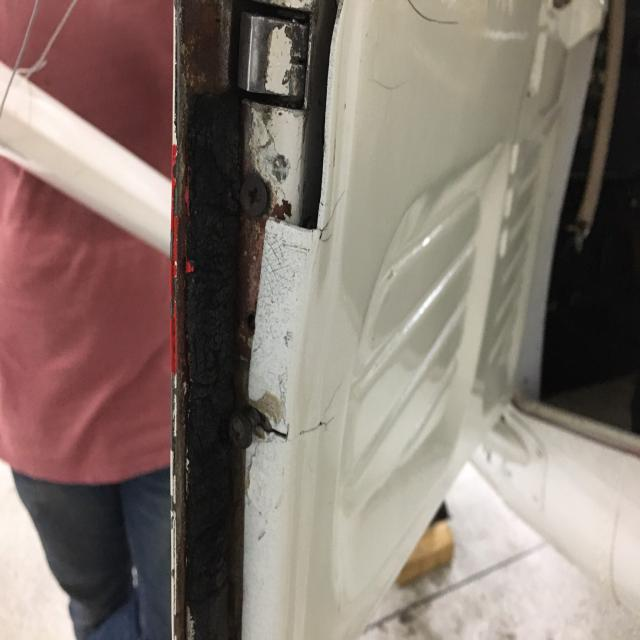Rupture: (192, 0, 351, 640), (366, 0, 467, 109)
